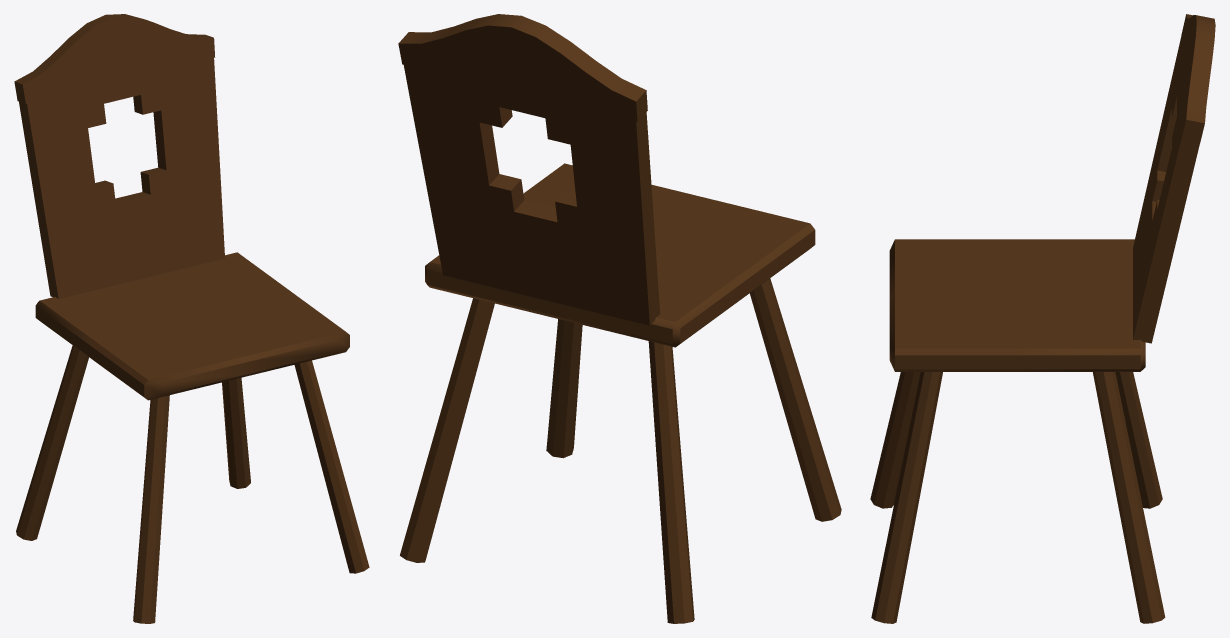
The model's file is stuhl_brett.glb.
3 views of the same model, side by side, from view 1: azimuth 30°, elevation 25°; view 2: azimuth 150°, elevation 25°; view 3: azimuth 270°, elevation 25° (orthographic). The views are drawn at different scales.
Visible parts, largest first — view 1: stuhl_brett; view 2: stuhl_brett; view 3: stuhl_brett.
Part boxes in pixels (bbox=[...]): stuhl_brett: bbox=[14, 14, 369, 623]; stuhl_brett: bbox=[398, 14, 841, 623]; stuhl_brett: bbox=[870, 14, 1215, 623].
Size of the model in its own units: 0.4798 by 0.9349 by 0.5395.
